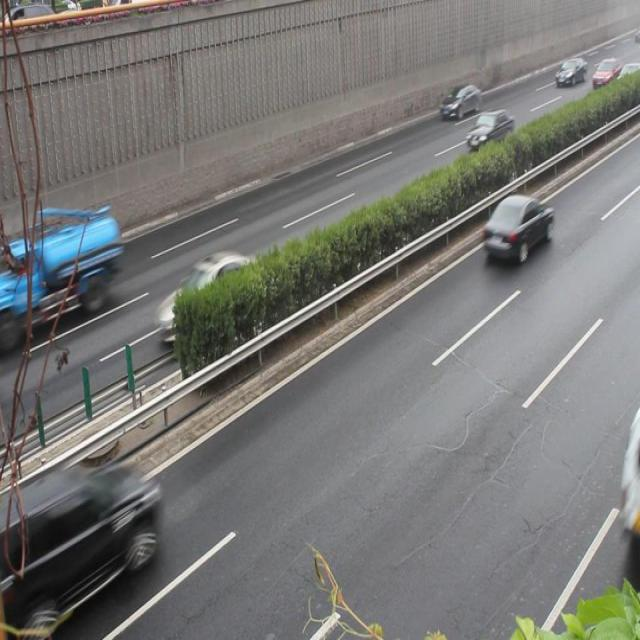bus: (0, 215, 120, 329)
car: (0, 465, 158, 618), (154, 250, 265, 352), (482, 191, 554, 264), (466, 107, 514, 157), (439, 82, 480, 124), (617, 62, 640, 94)
